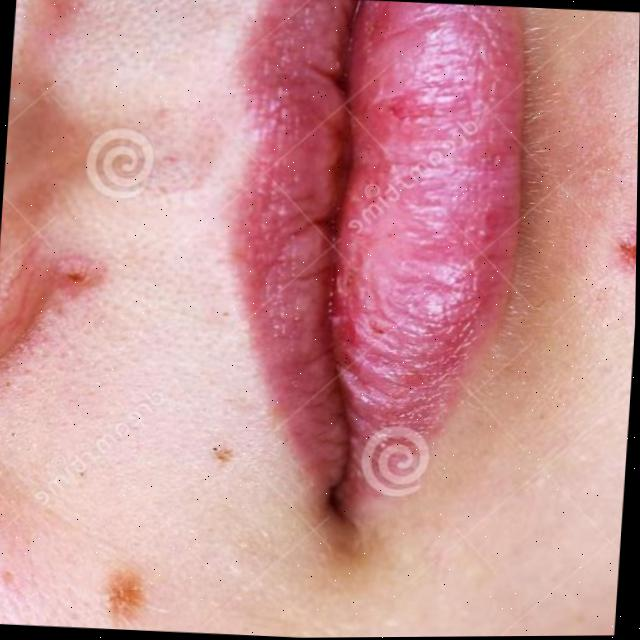Acne: (2, 549, 157, 632)
